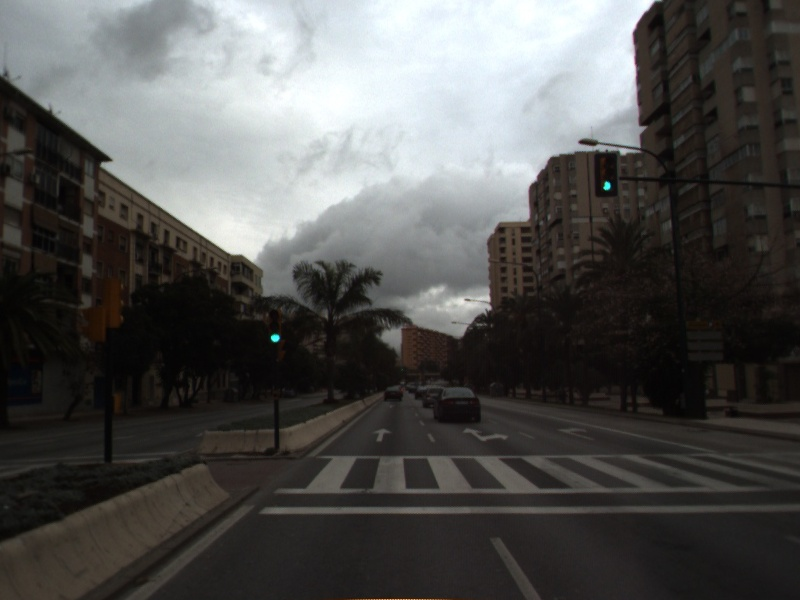RIGHT: (554, 424, 597, 443)
STRAIGHT: (370, 426, 394, 444)
STRAIGHT_RIGHT: (460, 425, 511, 444)
